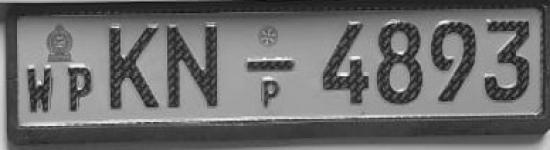-: (240, 55, 299, 77)
3: (481, 12, 537, 108)
4: (310, 15, 374, 113)
8: (376, 16, 431, 108)
9: (430, 18, 480, 113)
K: (102, 20, 168, 115)
N: (166, 19, 227, 113)
P: (64, 62, 98, 115)
W: (22, 62, 60, 117)
